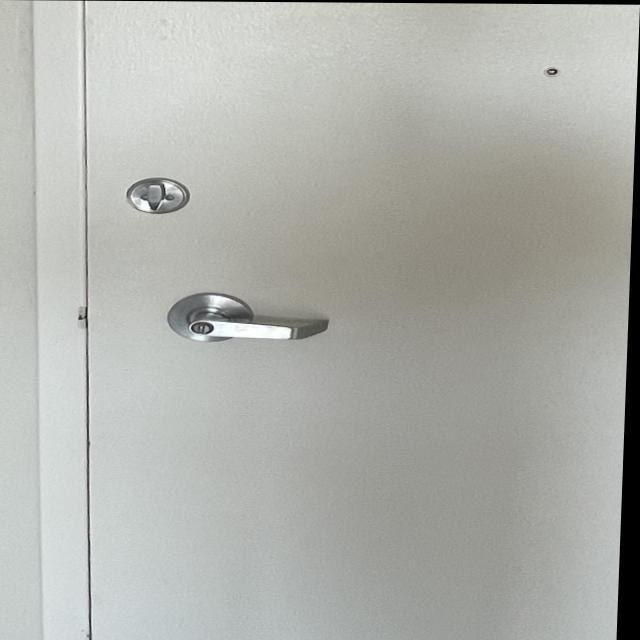door_handle: (163, 303, 351, 351)
